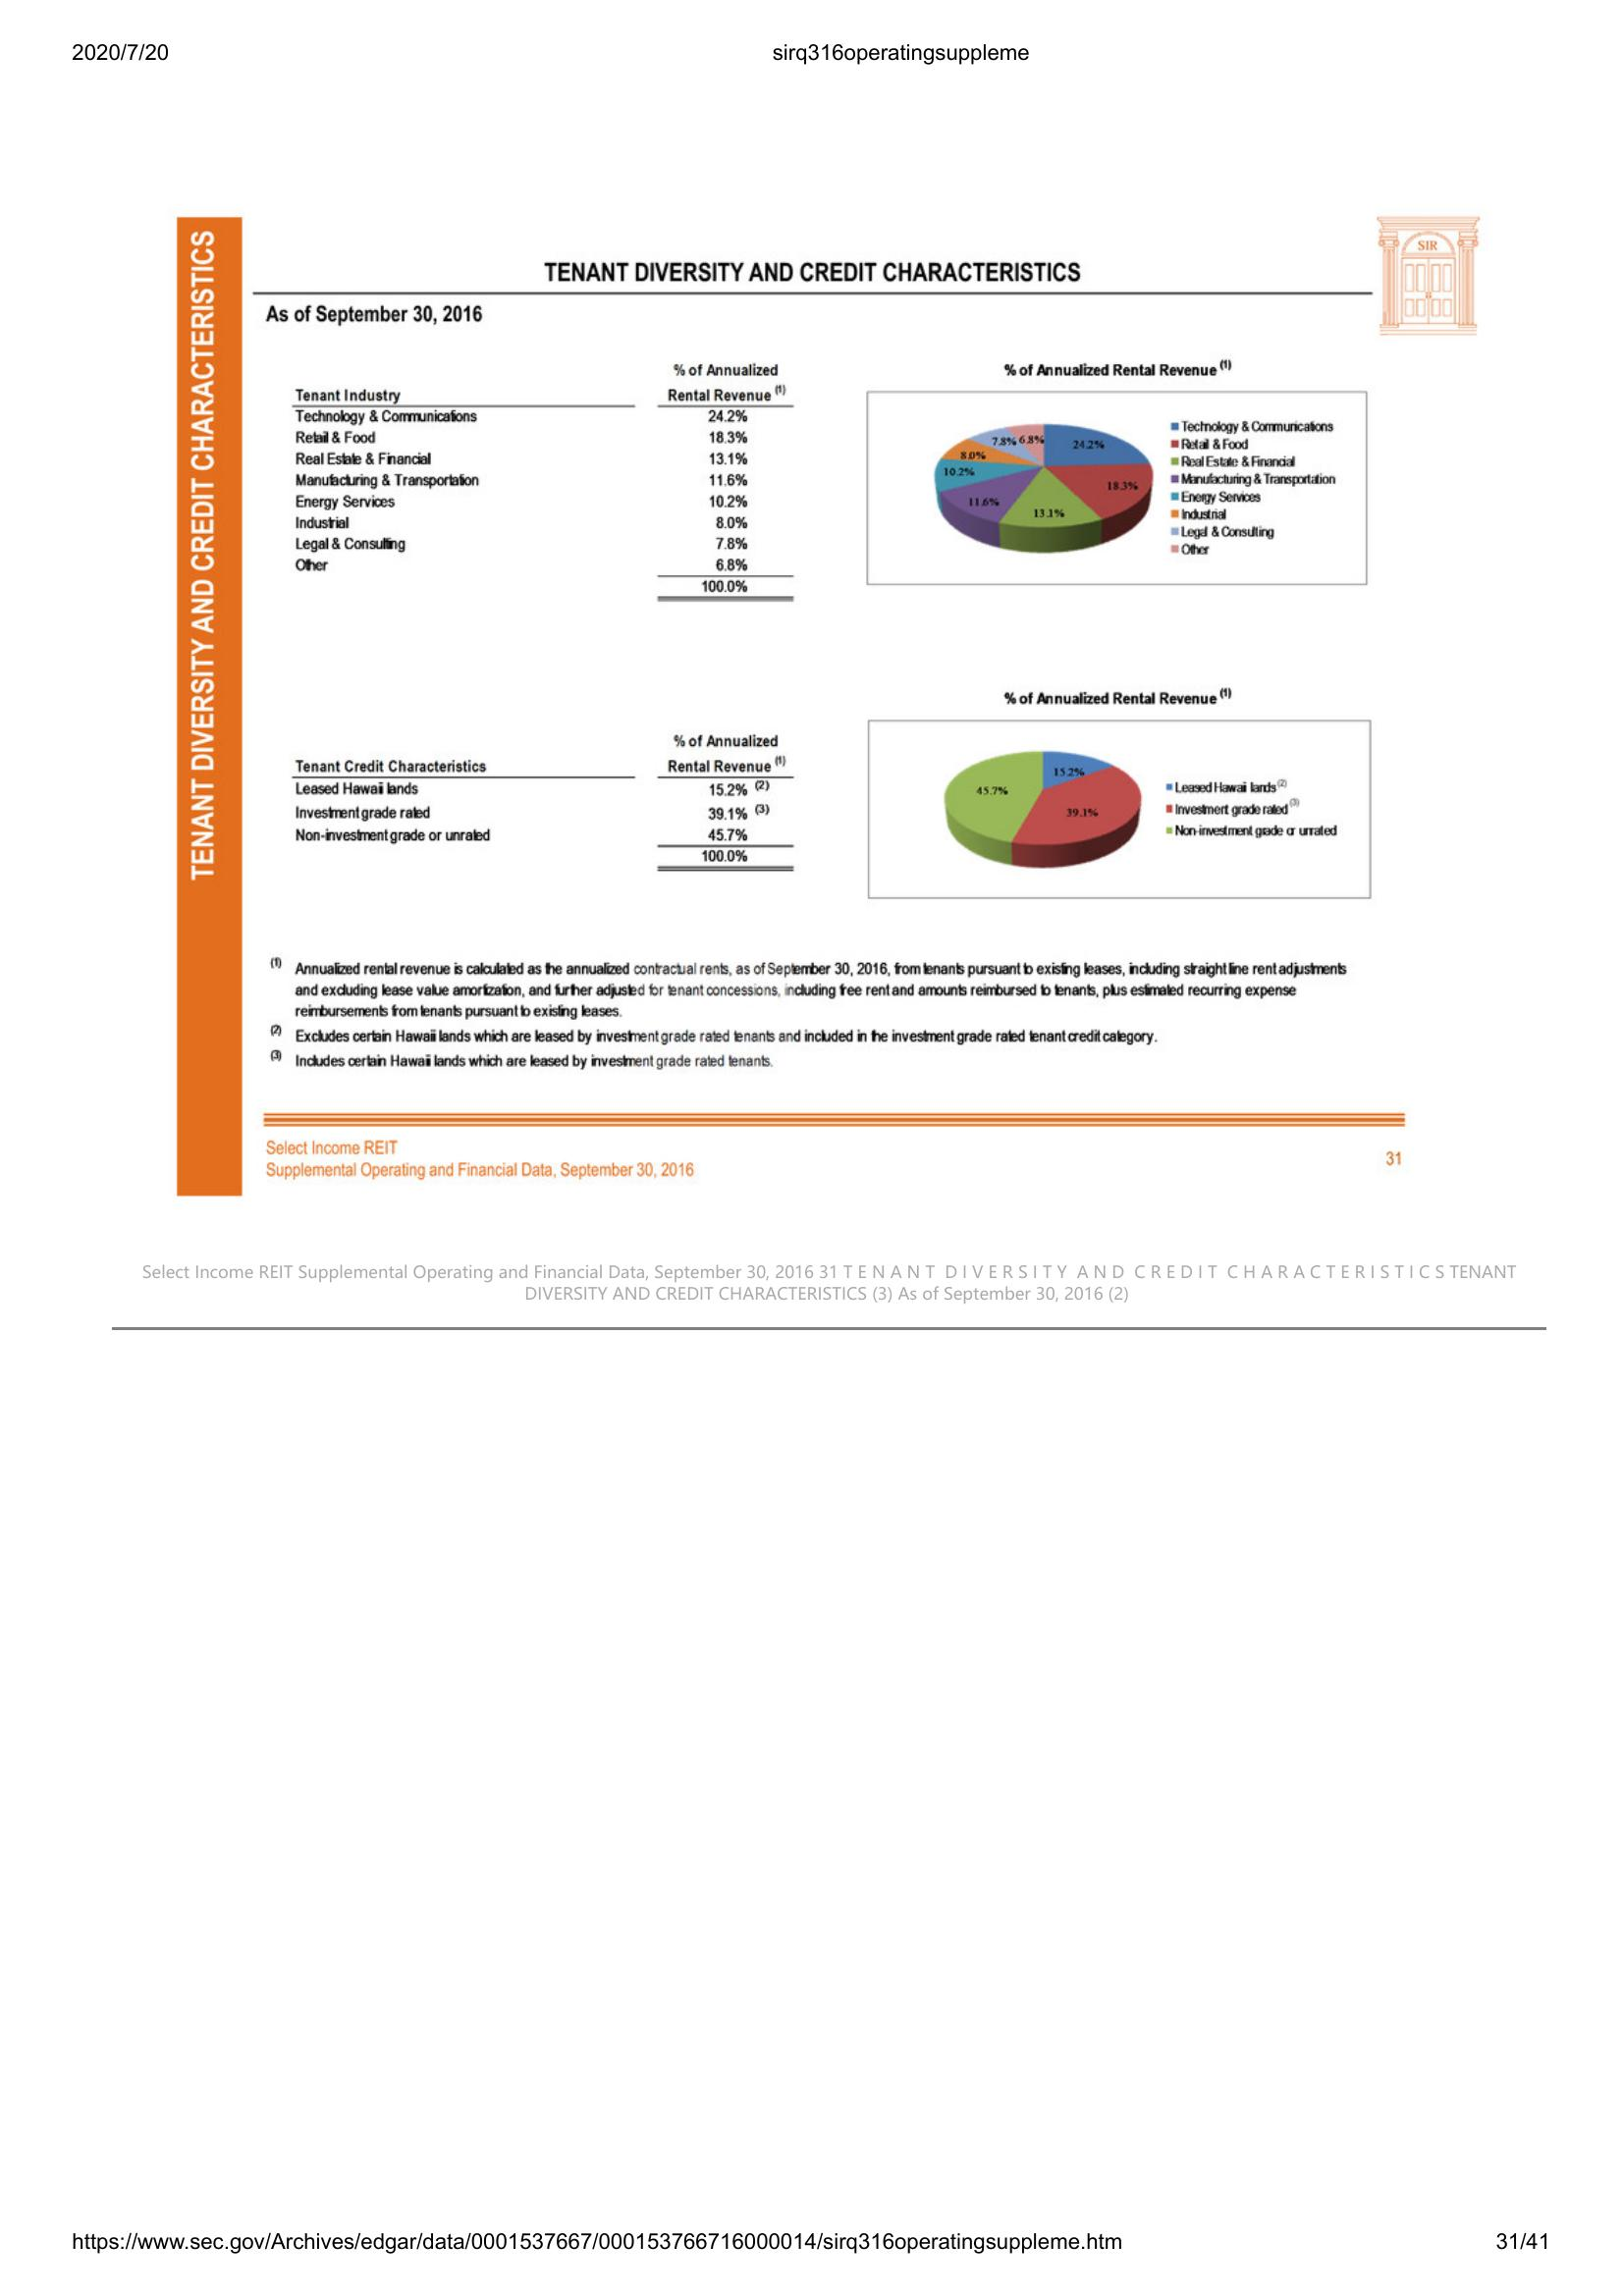table: (279, 358, 803, 621), (281, 720, 813, 879)
